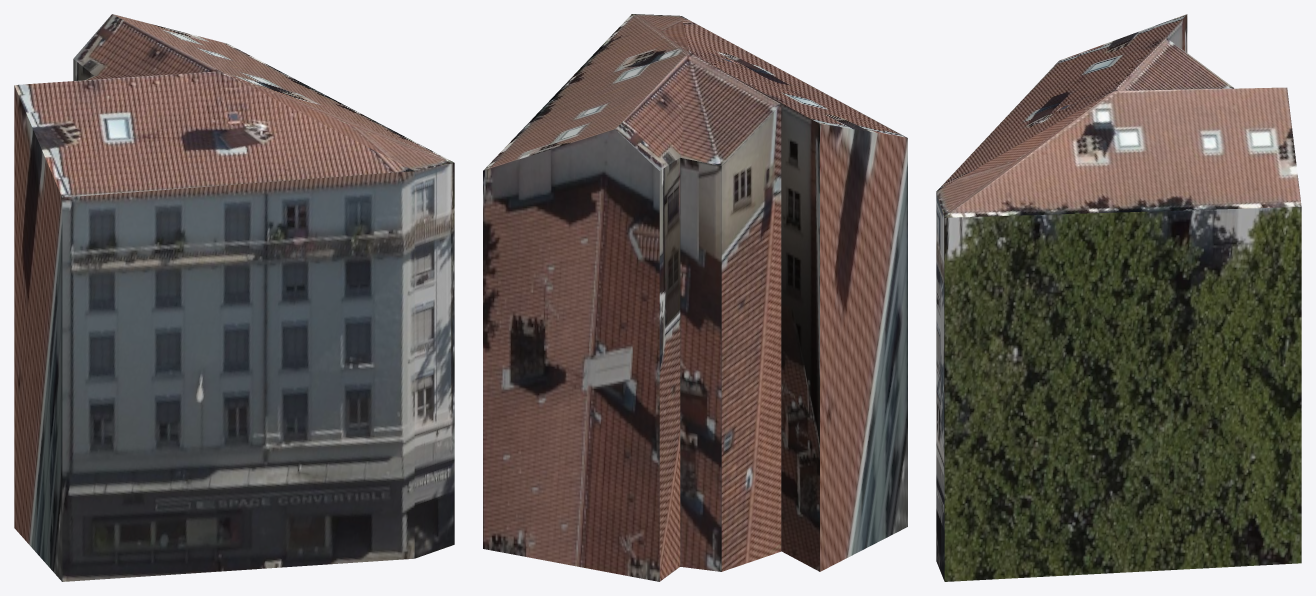
The picture shows the model from 3 angles, left to right: view 1: azimuth 30°, elevation 25°; view 2: azimuth 150°, elevation 25°; view 3: azimuth 270°, elevation 25°; orthographic projection. The views are drawn at different scales.
Visible parts, largest first — view 1: Z_UP; view 2: Z_UP; view 3: Z_UP.
Part boxes in pixels (box(x1,y1,x2,y2)): Z_UP: box(14, 14, 454, 581); Z_UP: box(483, 14, 907, 581); Z_UP: box(936, 14, 1301, 581).
Size of the model in its own units: 19.4 by 24.75 by 19.36.
Materials: 2 (1 with a texture image).
